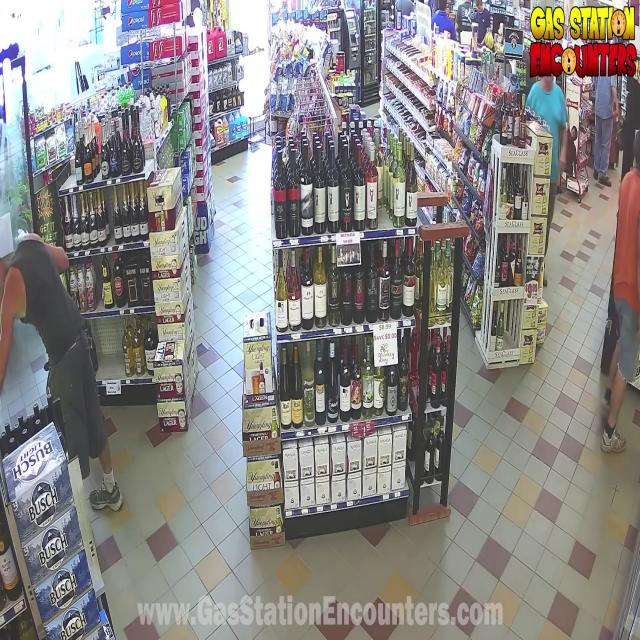normal: (0, 135, 132, 532), (570, 107, 640, 487)
